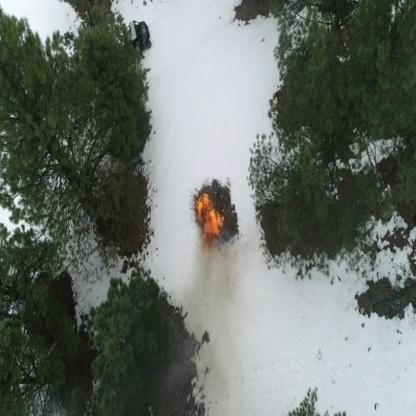Fire: (197, 193, 223, 250)
